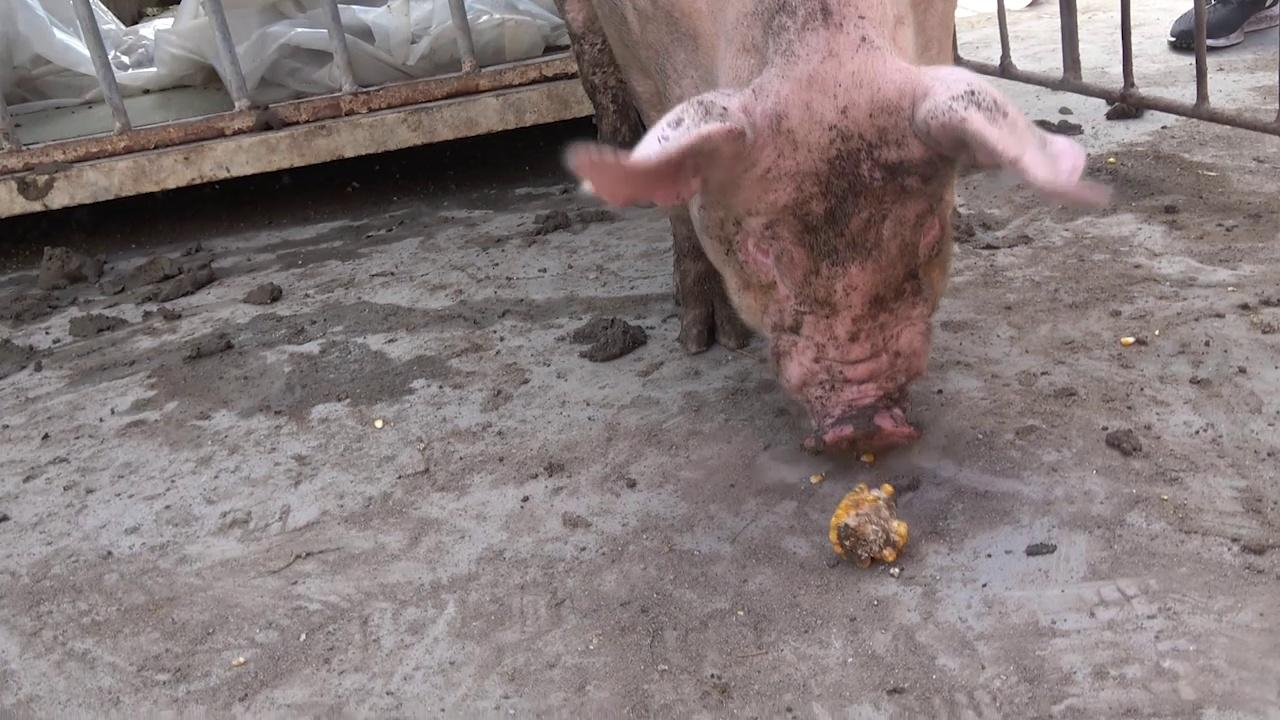Face: (555, 73, 1111, 472)
